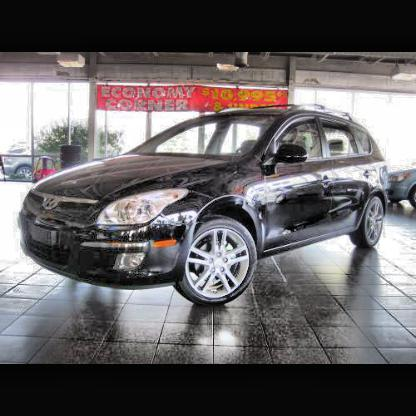Hyundai Elantra Touring Hatchback 2012: (17, 103, 393, 309)
